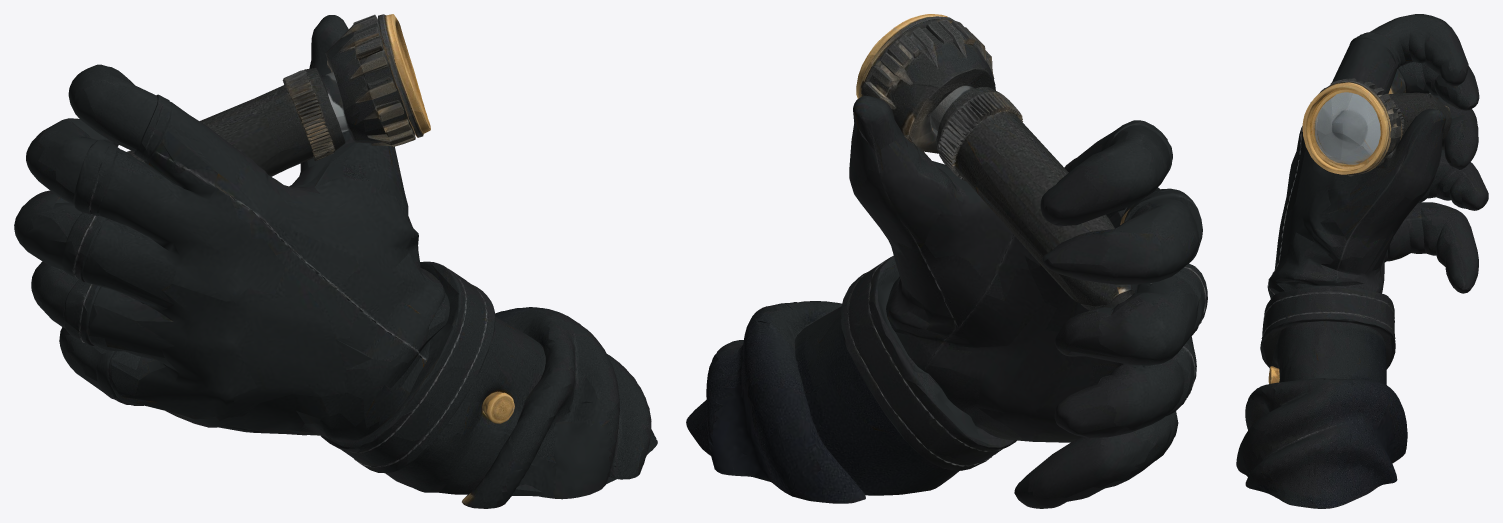
File: watchGrip.glb
3 renders of one model, left to right at view 1: azimuth 30°, elevation 25°; view 2: azimuth 150°, elevation 25°; view 3: azimuth 270°, elevation 25°, orthographic. The views are drawn at different scales.
Size of the model in its own units: 1.9 by 1.5 by 1.01.
1 material, 1 textured.
